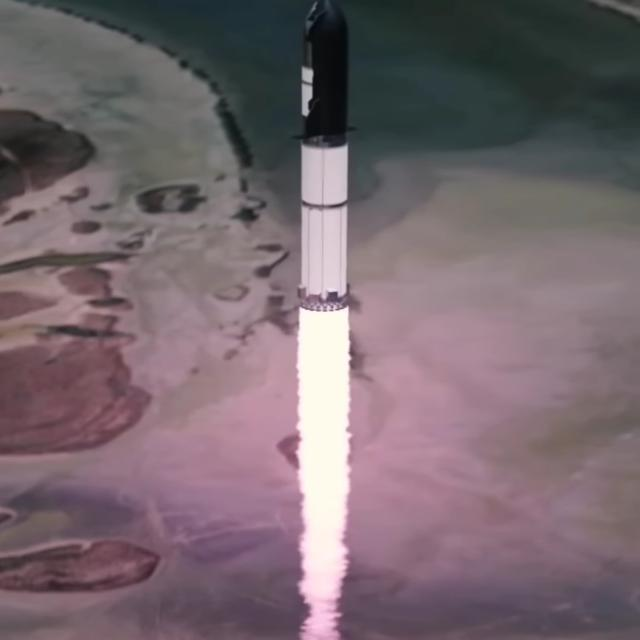missile: (292, 7, 354, 306)
